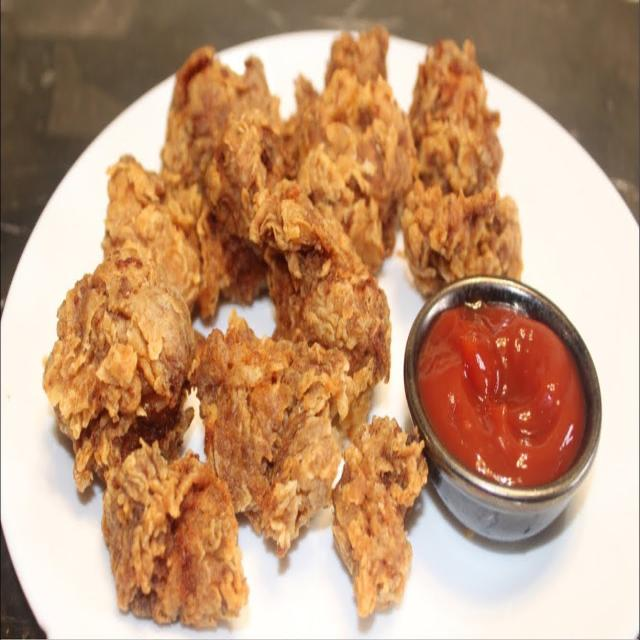Frango: (41, 33, 521, 640)
